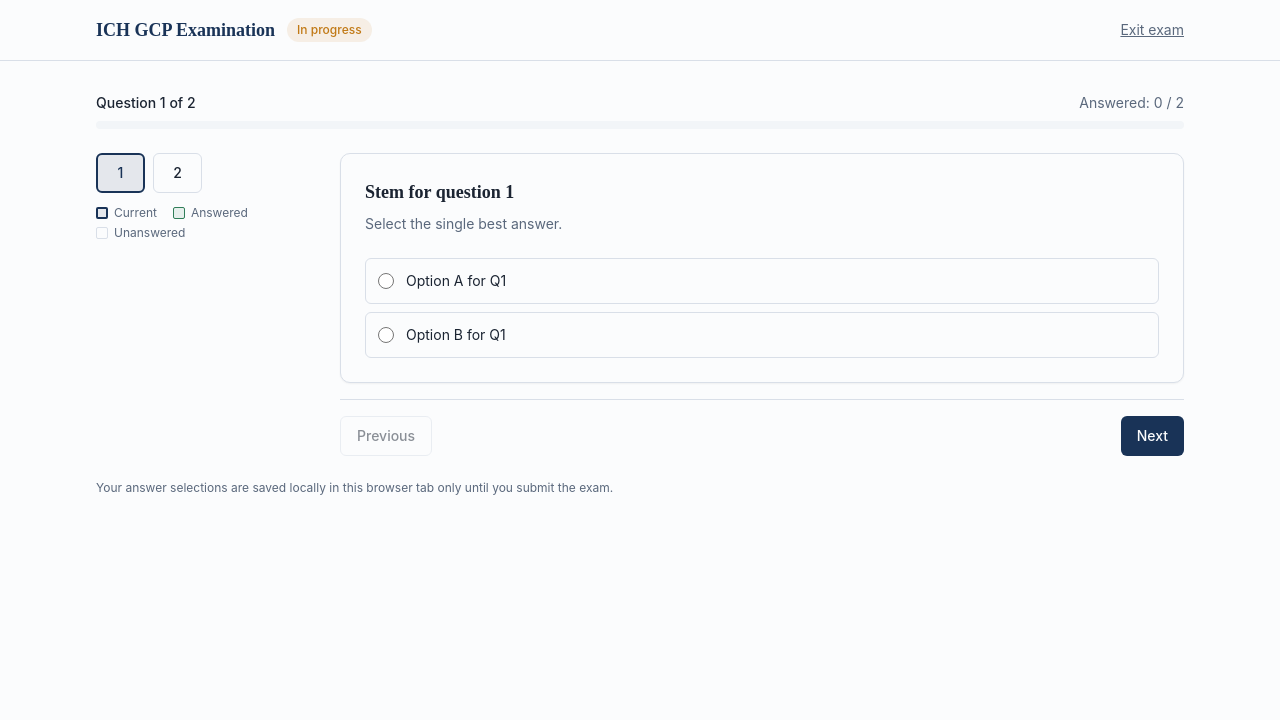
Test: Exam attempt page › Gate 7D: submission › sends only the local selections, submits, clears sessionStorage, and shows the locked SUBMITTED summary
expect the heading "Stem for question 1" is shown: met, box [365,182,514,202]
Click the button "Next". click: click(1152, 436)
box: [1121,416,1184,456]
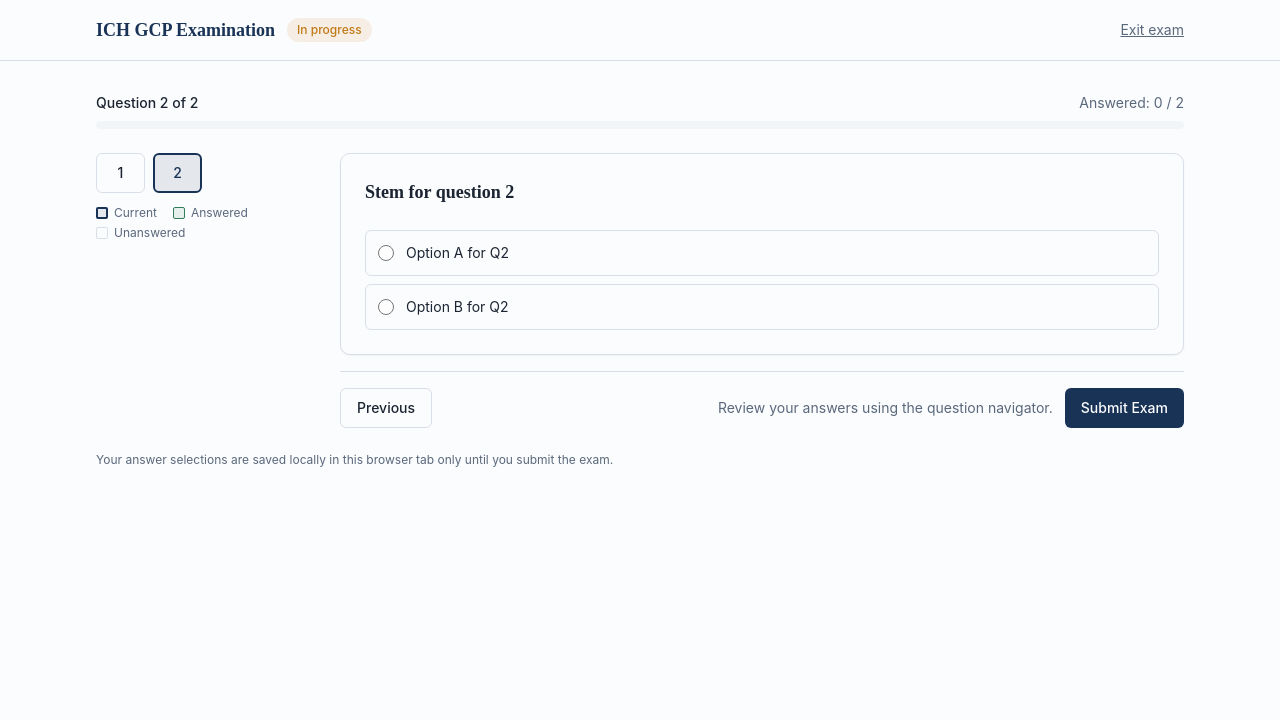
expect the heading "Stem for question 2" is shown: met, box [365,182,514,202]
Click the radio button labelled "Option A for Q2". click: click(386, 253)
box: [378,245,394,261]
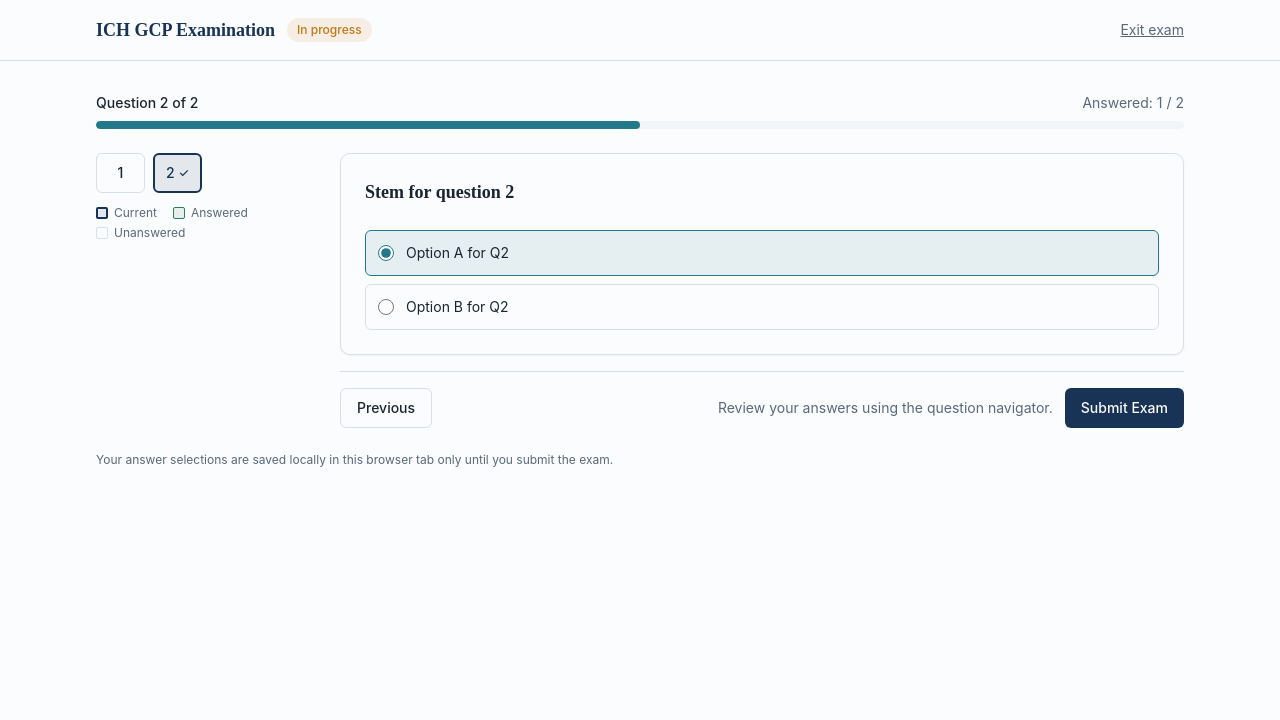
Click the button "Submit Exam". click: click(1124, 408)
box: [1065,388,1184,428]
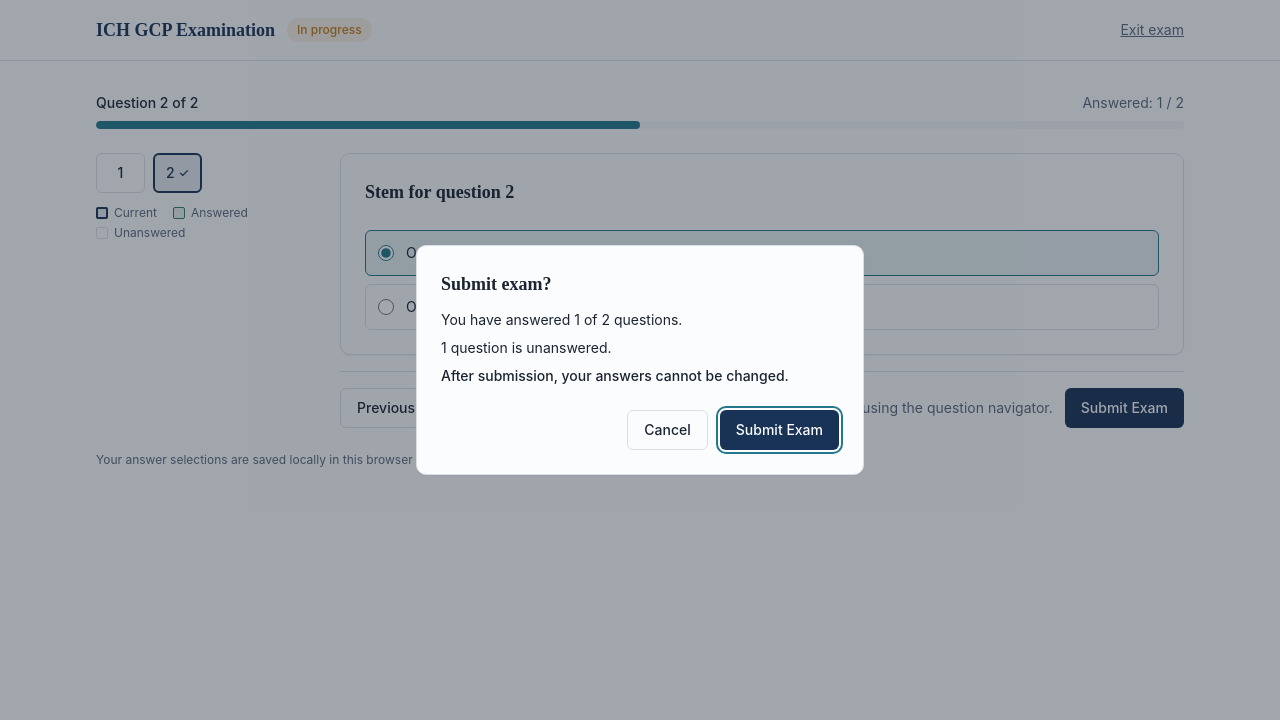
Click the button "Submit Exam". click: click(779, 430)
box: [720,410,839,450]
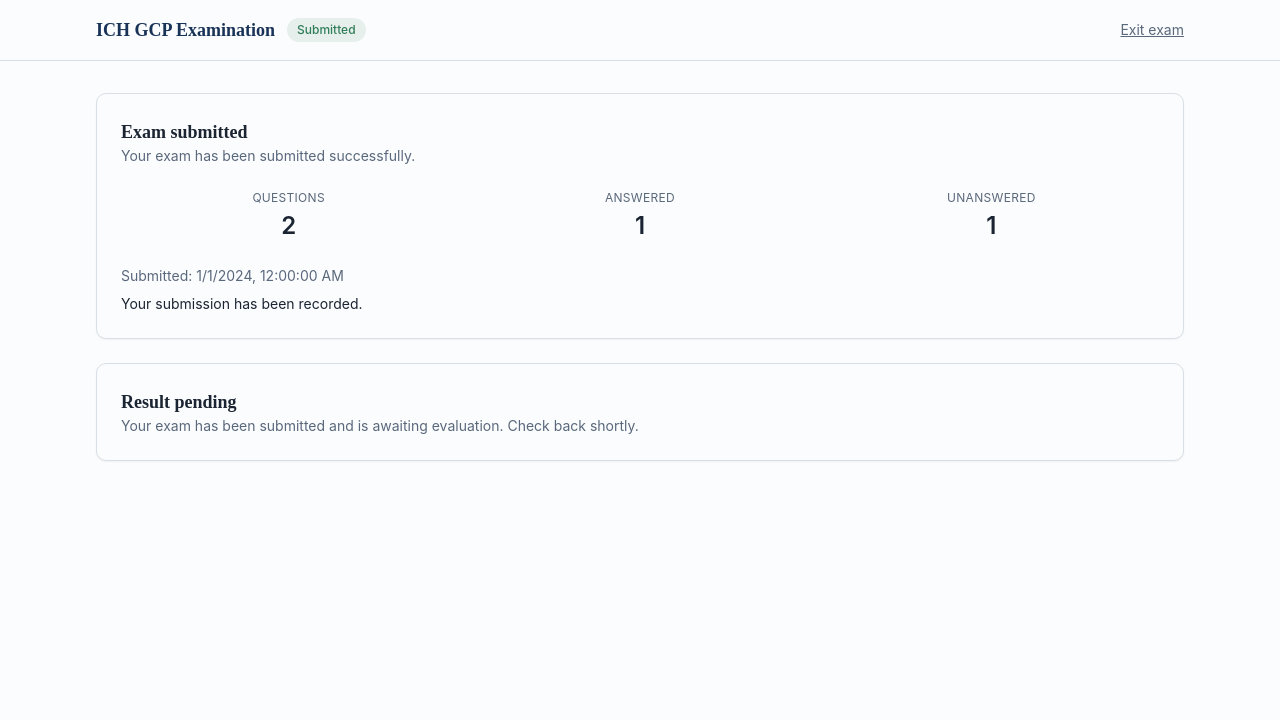
expect the heading "Exam submitted" is shown: met, box [121,122,248,142]
expect the dialog is gone: met
expect the radio button is gone: met
